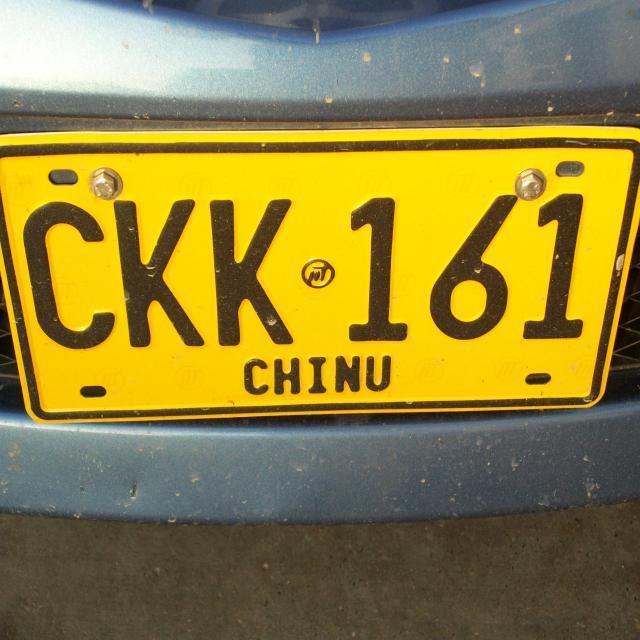placa: (1, 122, 638, 427)
